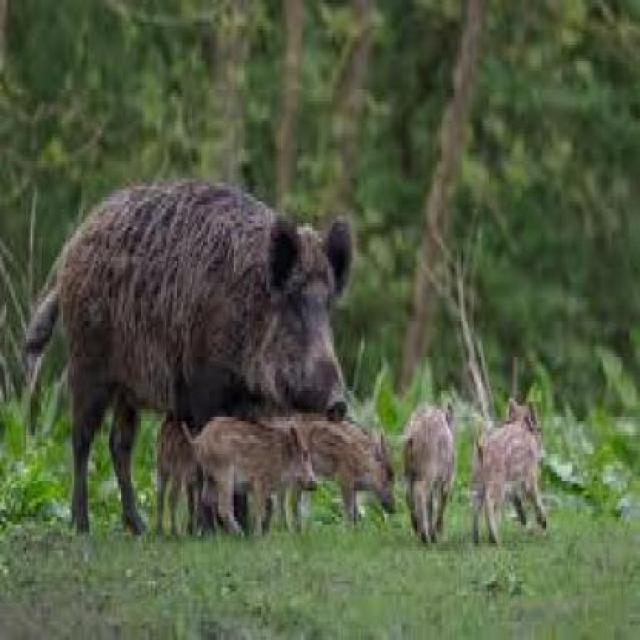wildboar: (30, 173, 356, 541), (273, 393, 401, 536), (181, 407, 319, 539), (465, 393, 557, 545), (398, 396, 464, 544)
